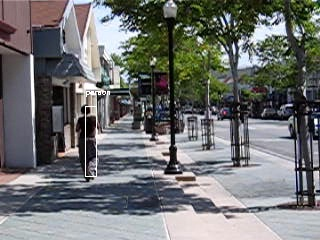person: (76, 105, 101, 183), (75, 105, 100, 183), (77, 105, 102, 183), (76, 104, 101, 182), (76, 106, 101, 184)
target_negative: (144, 94, 190, 227), (13, 156, 207, 165), (261, 65, 266, 185), (217, 190, 231, 211), (21, 90, 110, 92), (272, 174, 278, 178)
